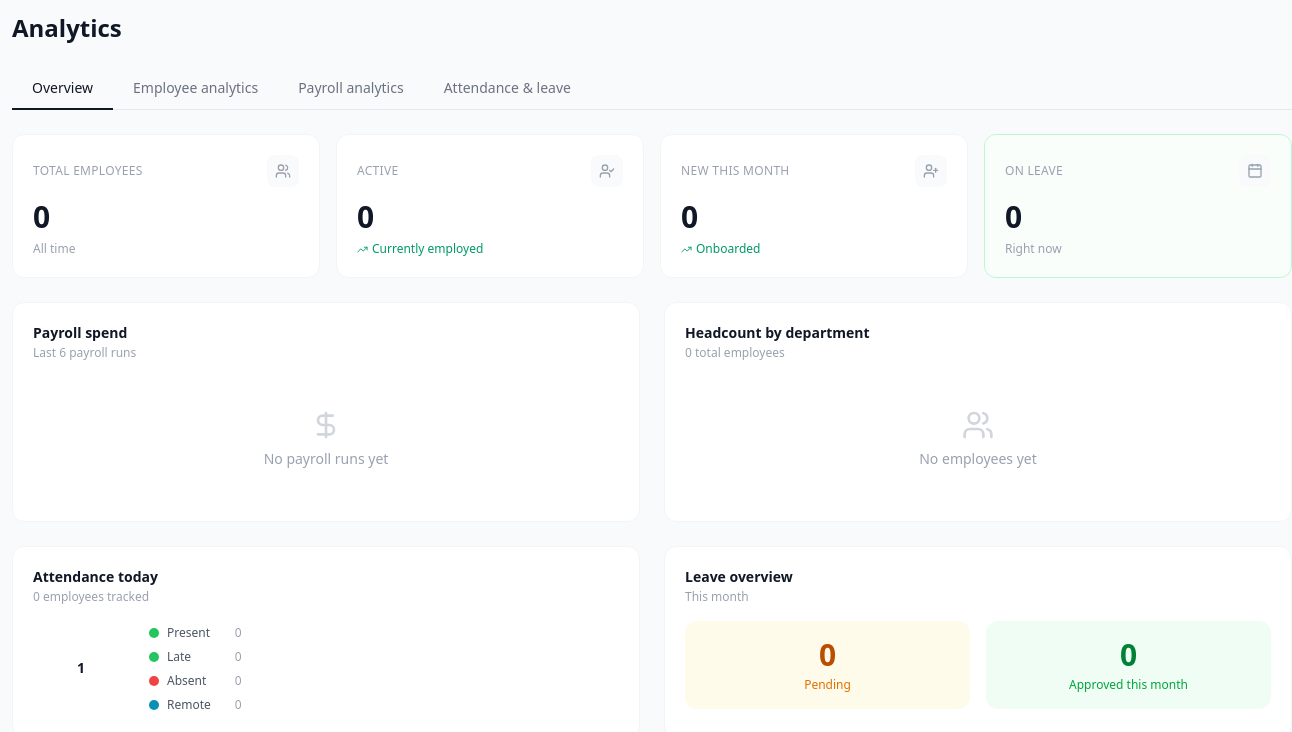
Test: Analytics page › clicking "Payroll analytics" tab shows "Payroll spend" section
The width and height of the screenshot is (1292, 732).
Click the button "Payroll analytics": click(351, 89) [278,68,424,110]
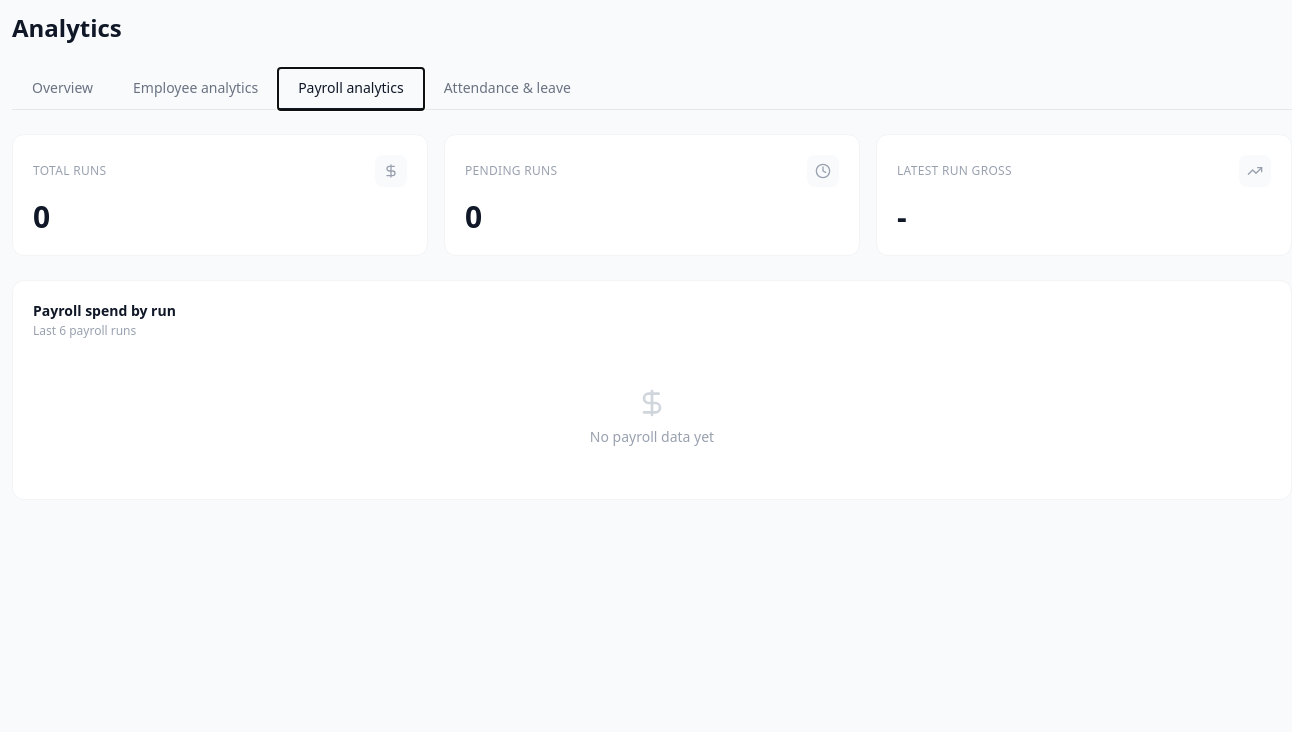
Result: the heading "Payroll spend by run" is shown at [33,301,176,320]
